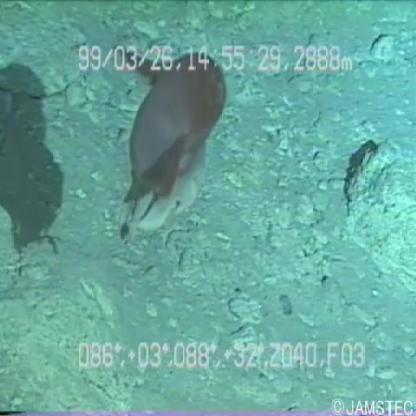Bio: (109, 37, 233, 248)
